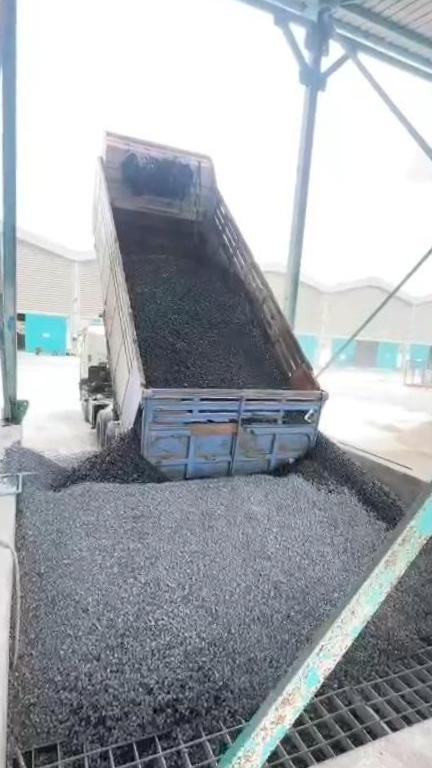gravel: (1, 436, 403, 750), (120, 221, 285, 389), (332, 534, 432, 683)
sand: (366, 418, 432, 478)
